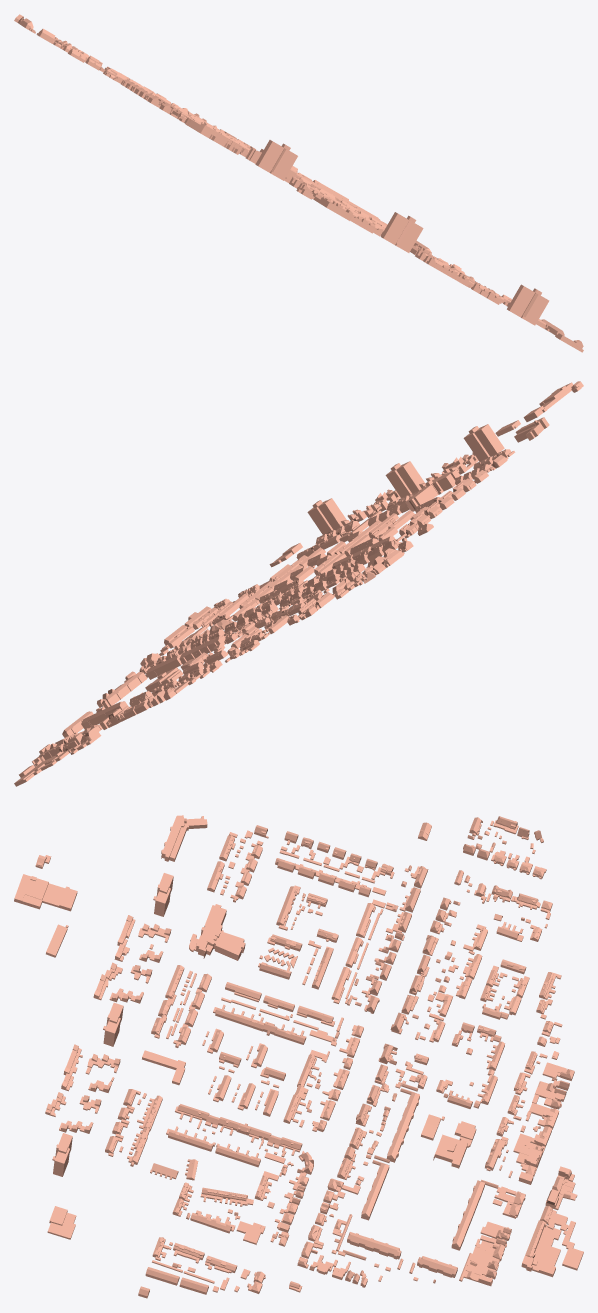
3 views of the same model, one above another, from view 1: azimuth 30°, elevation 25°; view 2: azimuth 150°, elevation 25°; view 3: azimuth 270°, elevation 25° (orthographic). The views are drawn at different scales.
Size of the model in its own units: 522 by 392 by 663.
